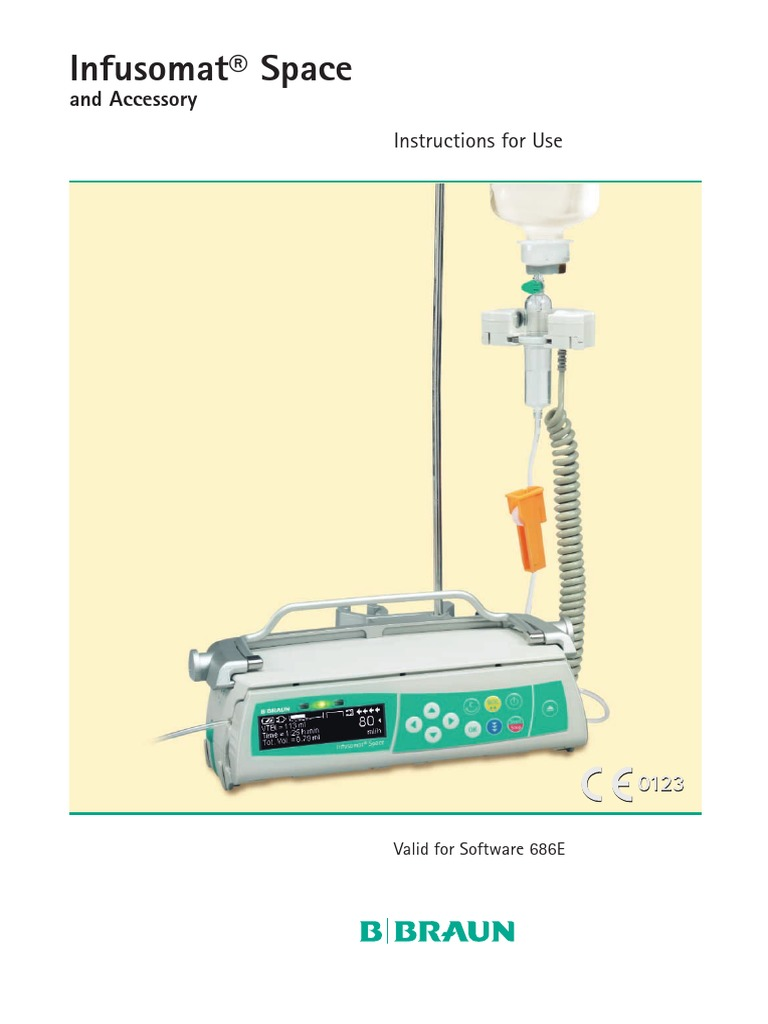BBraun Infusomat Space: (186, 592, 601, 789)
